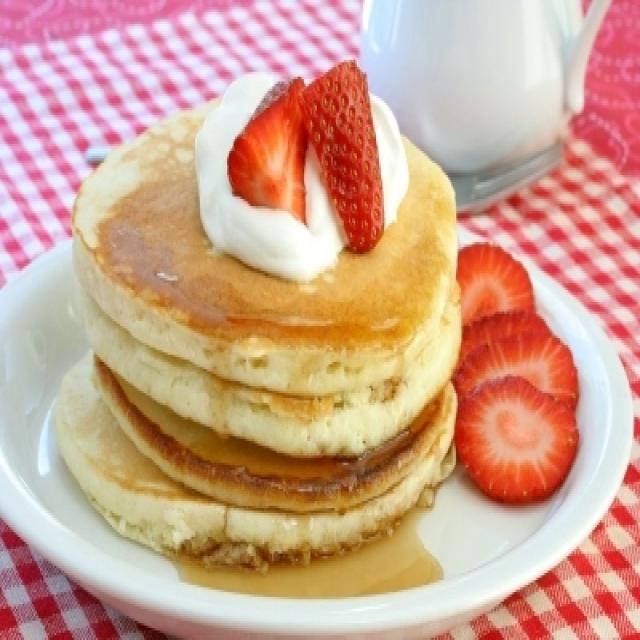蛋糕甜品: (16, 39, 613, 618)
